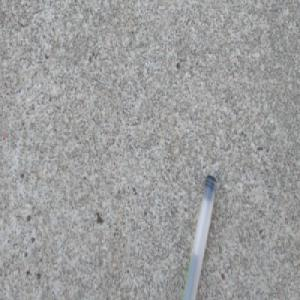Pen: (178, 172, 219, 300)
